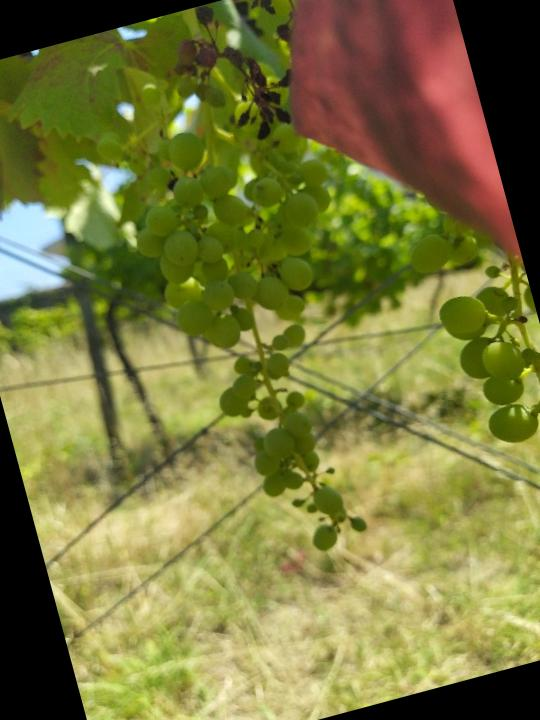grape: (78, 41, 433, 590), (162, 0, 332, 160)
